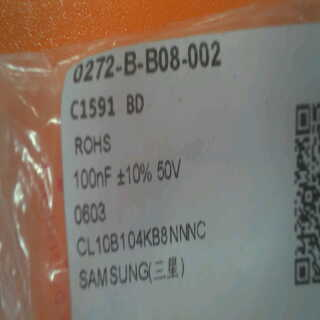100nF: (70, 162, 109, 193)
